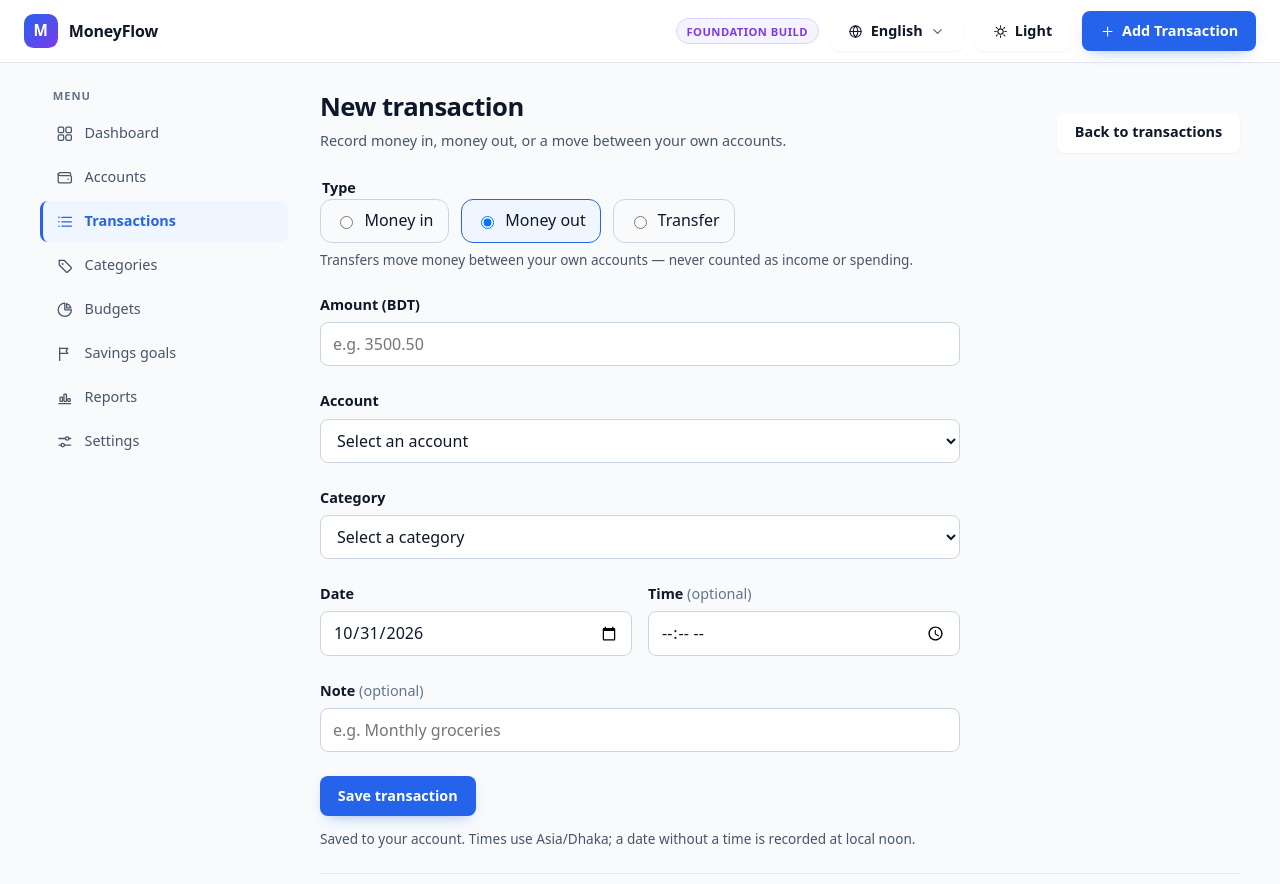
Test: new transaction route (authenticated API) › reveals a destination for transfers and requires it to differ
Click the radio button labelled "Transfer" at (640, 222), box [634,216,646,229]
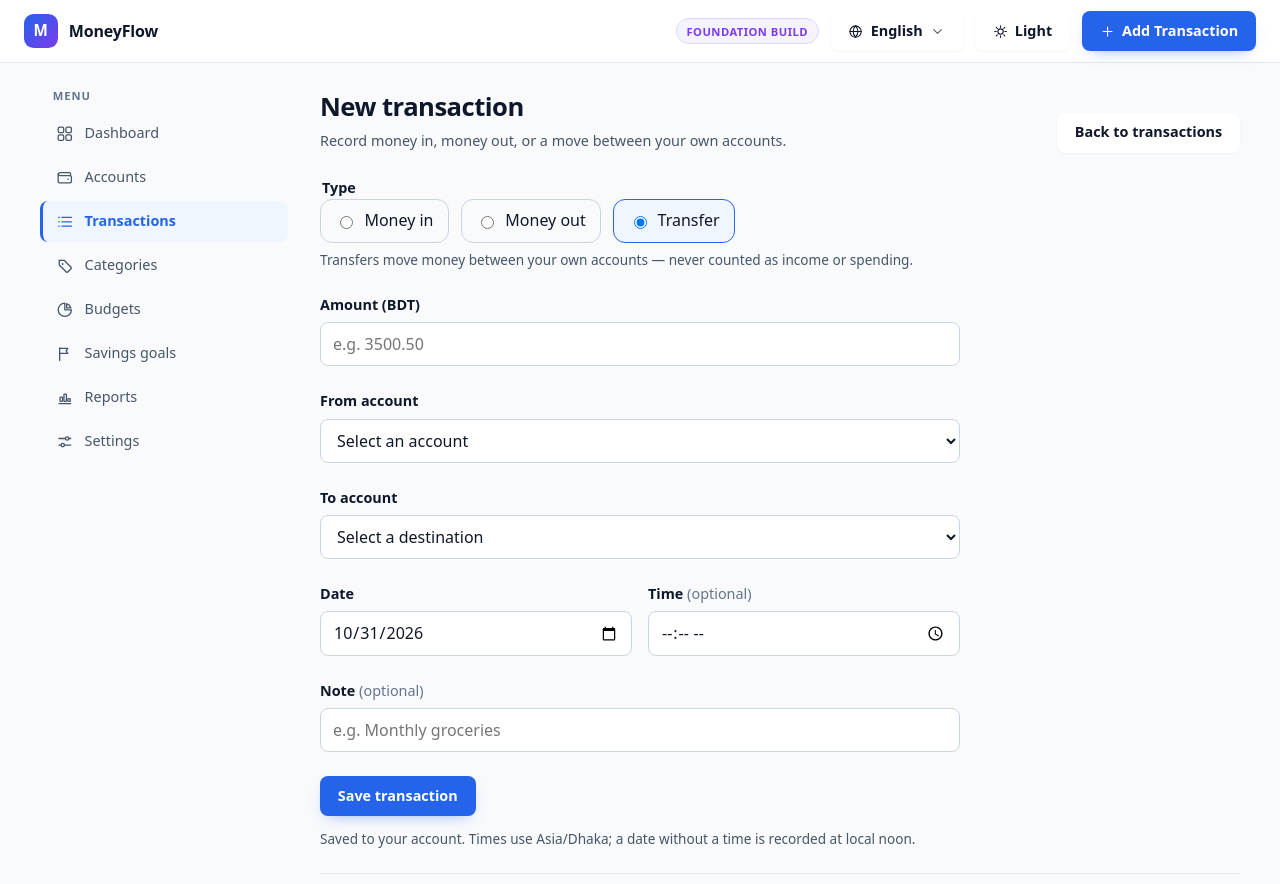
Select "Cash" in the dropdown labelled "From account" at (640, 441), box [320,419,960,463]
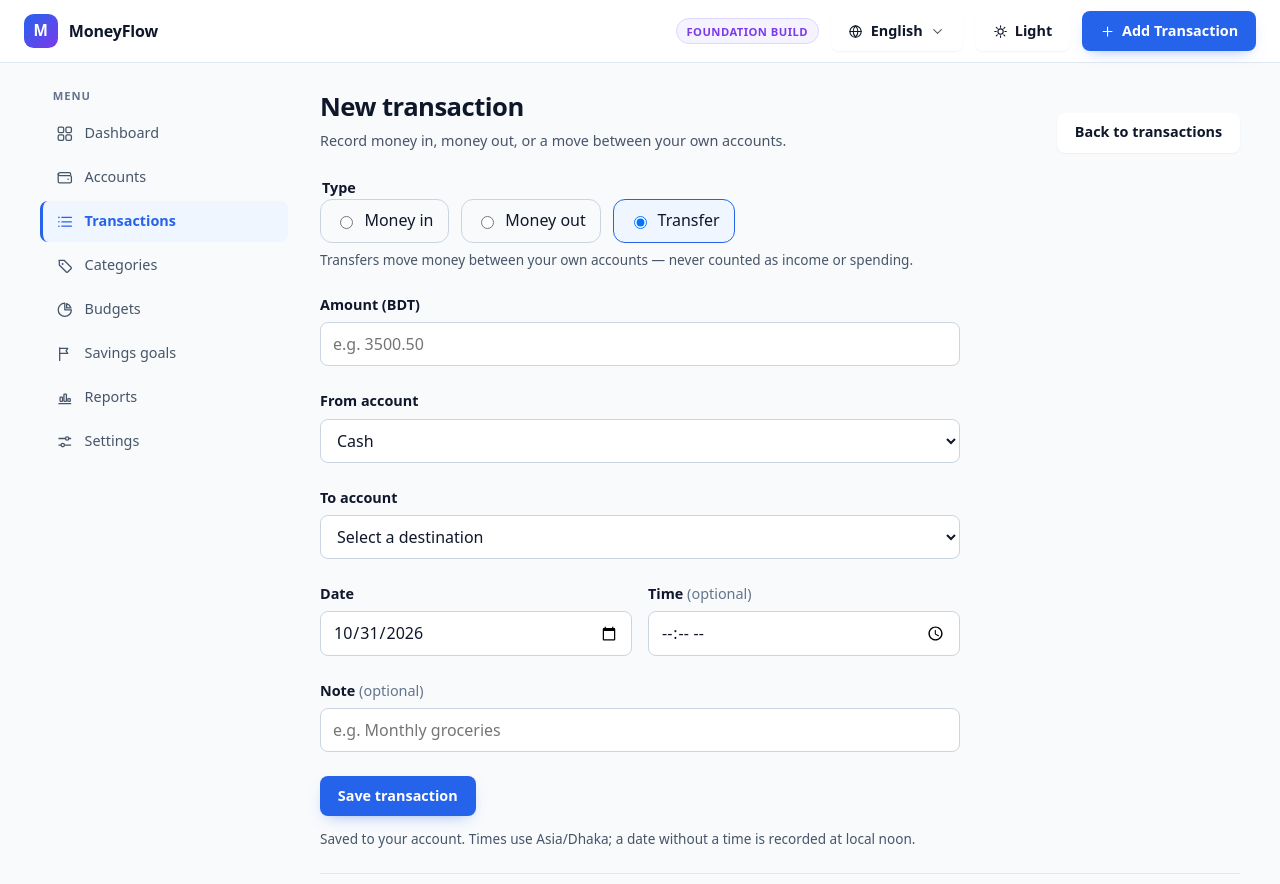
Select "Cash" in the dropdown labelled "To account" at (640, 537), box [320,515,960,559]
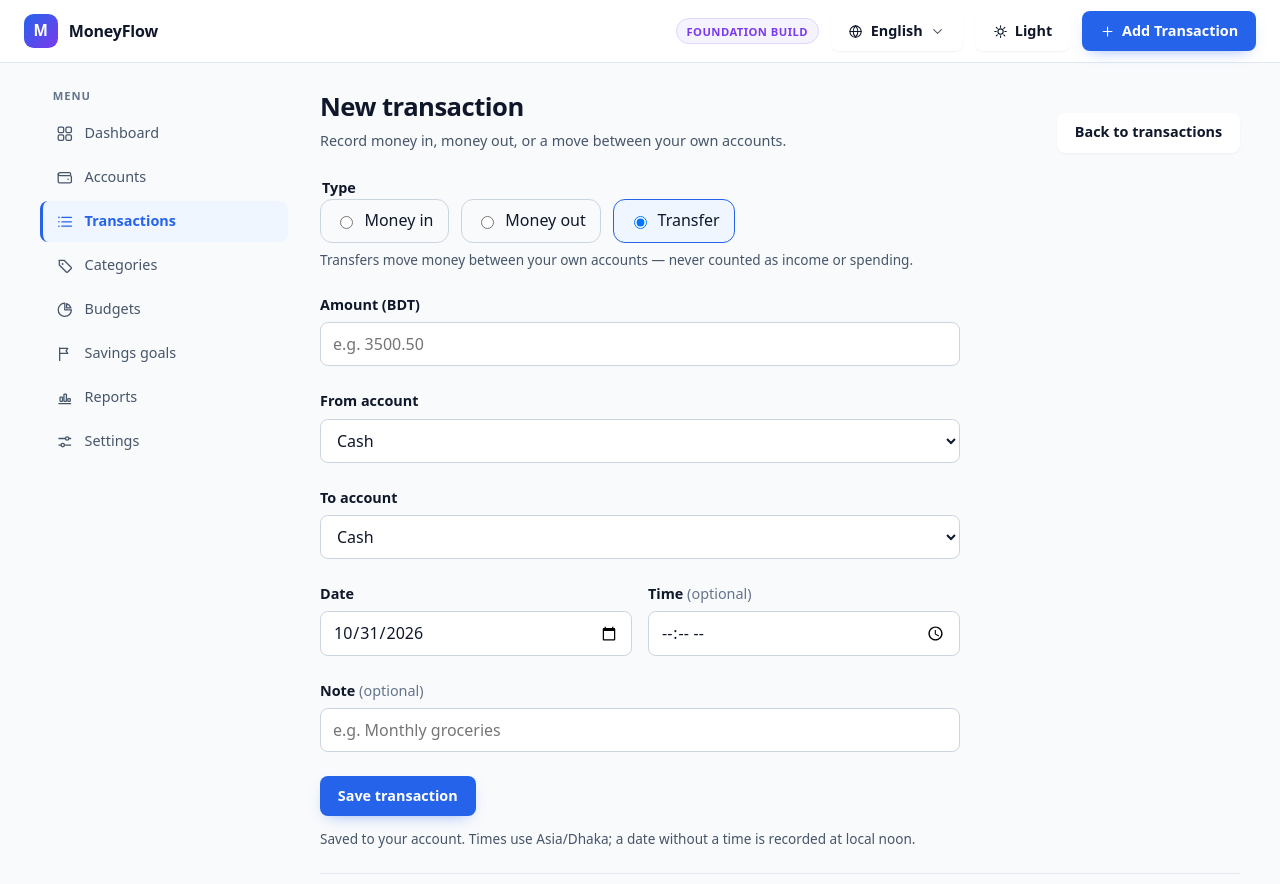
Leave the dropdown labelled "To account", box [320,515,960,559]
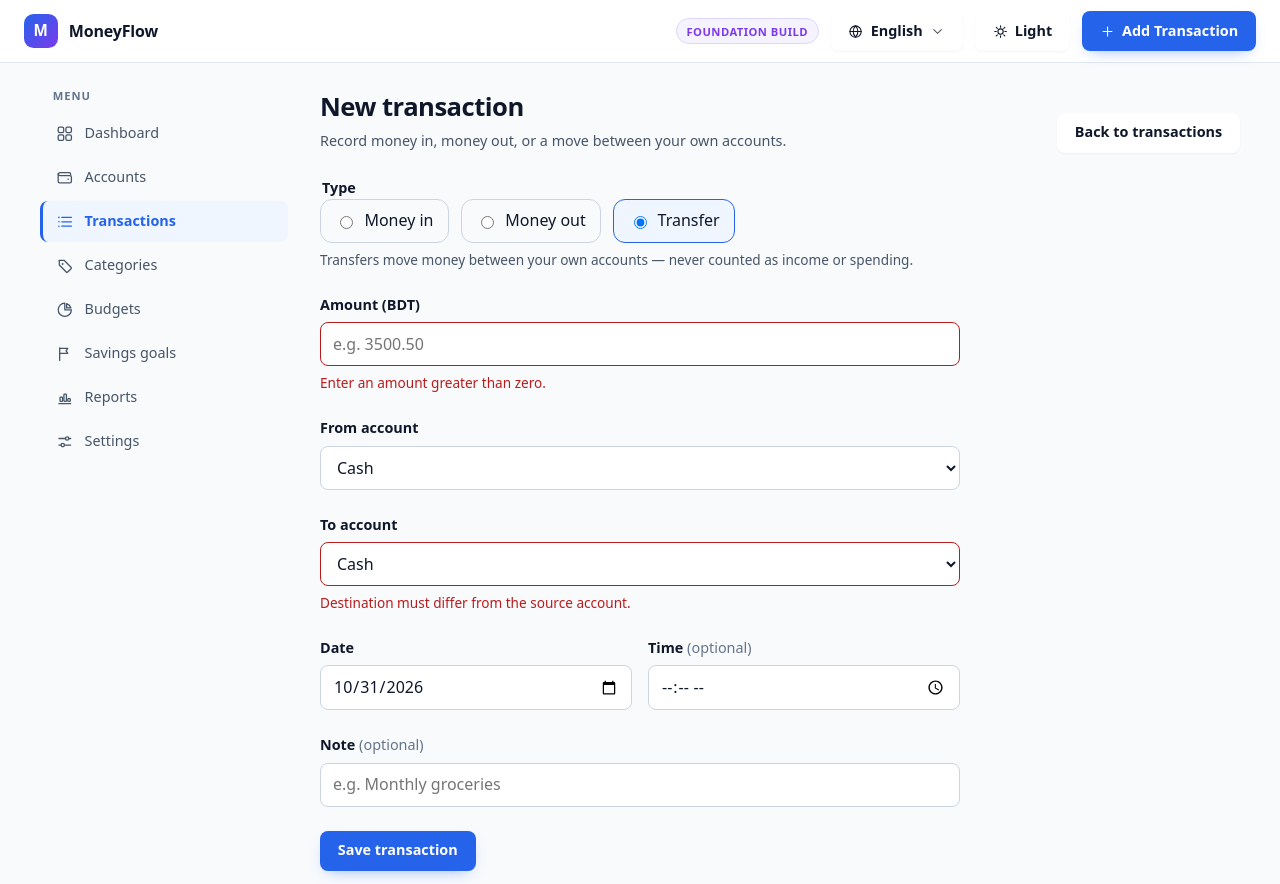
Expected: the label labelled "Category" is not shown
Now the text "Destination must differ from the source account." is shown, box [320,593,631,612]
